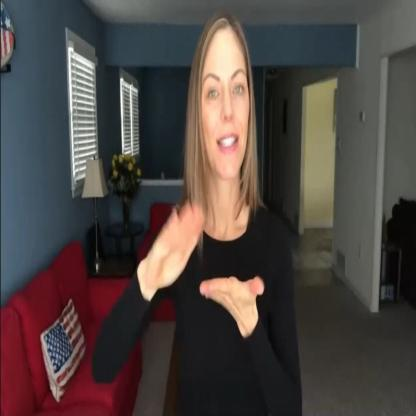NiceToMeetYou: (90, 13, 307, 416)
